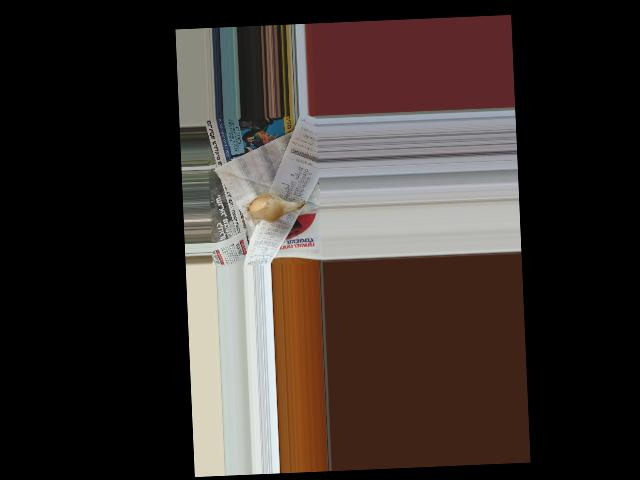onion: (243, 189, 290, 222)
